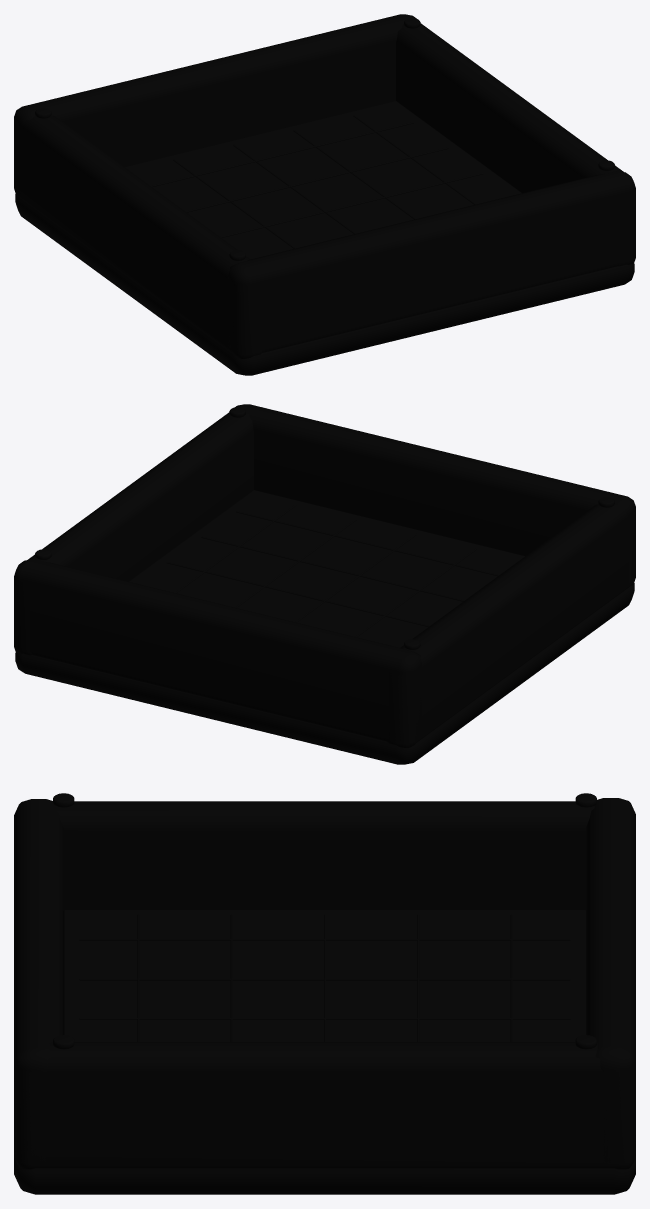
The model's file is tray_electronics.fbx.
The picture shows the model from 3 angles, top to bottom: view 1: azimuth 30°, elevation 25°; view 2: azimuth 150°, elevation 25°; view 3: azimuth 270°, elevation 25°; orthographic projection. The views are drawn at different scales.
Parts seen in each view (by area): view 1: tray_electronics; view 2: tray_electronics; view 3: tray_electronics.
Boxes of the visible parts, left/top/right/bottom form: tray_electronics: left=14, top=14, right=635, bottom=375; tray_electronics: left=14, top=404, right=635, bottom=764; tray_electronics: left=14, top=793, right=635, bottom=1194.
Size of the model in its own units: 100 by 27.28 by 100.
